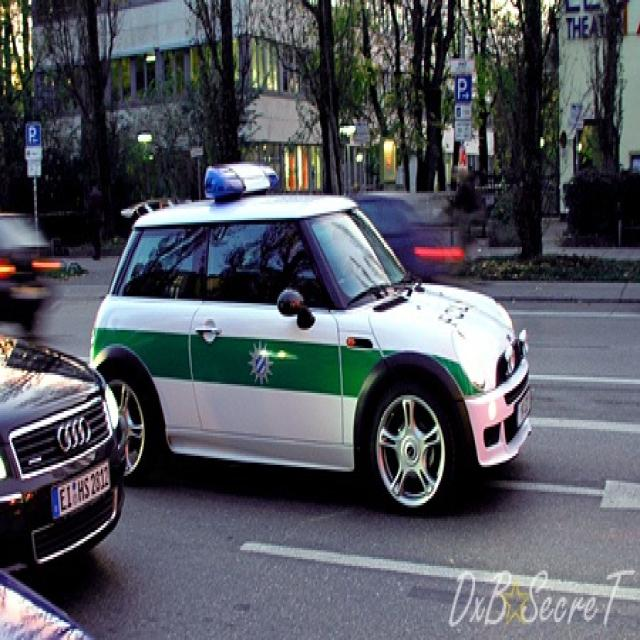car: (89, 160, 534, 514), (0, 334, 125, 575)
